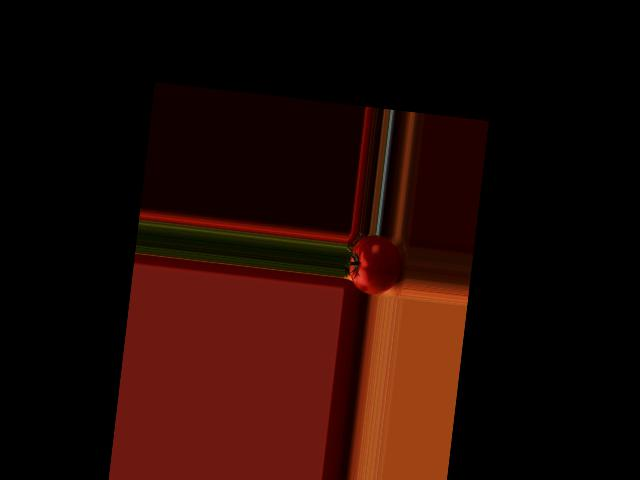tomato: (346, 233, 404, 297)
